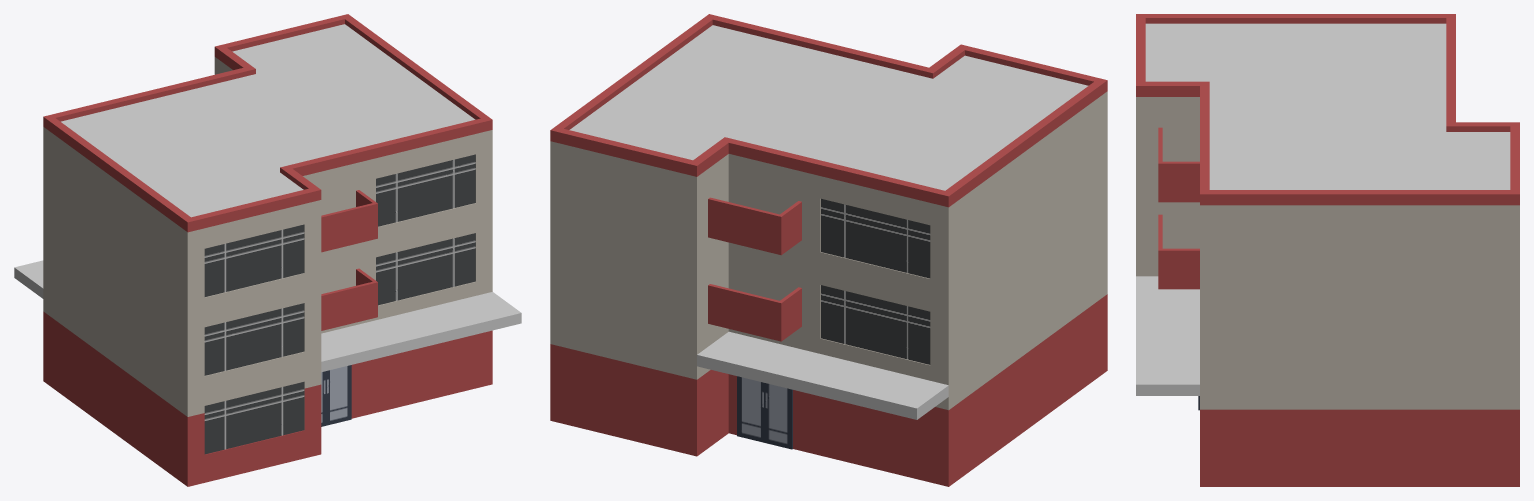
The model's file is spw-urban-bldg-16.glb.
3 views of the same model, side by side, from view 1: azimuth 30°, elevation 25°; view 2: azimuth 150°, elevation 25°; view 3: azimuth 270°, elevation 25° (orthographic). The views are drawn at different scales.
Visible parts, largest first — view 1: SPW_Urban_Bldg_16; view 2: SPW_Urban_Bldg_16; view 3: SPW_Urban_Bldg_16.
Boxes of the visible parts, left/top/right/bottom form: SPW_Urban_Bldg_16: left=14, top=14, right=521, bottom=486; SPW_Urban_Bldg_16: left=550, top=14, right=1107, bottom=486; SPW_Urban_Bldg_16: left=1136, top=14, right=1519, bottom=486.
Size of the model in its own units: 17.5 by 13.25 by 15.75.
Materials: 1 (1 with a texture image).
